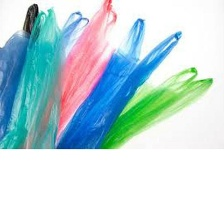plastic_bag: (54, 13, 189, 150), (36, 0, 126, 148), (98, 61, 221, 151), (15, 6, 88, 152), (1, 2, 63, 151)
